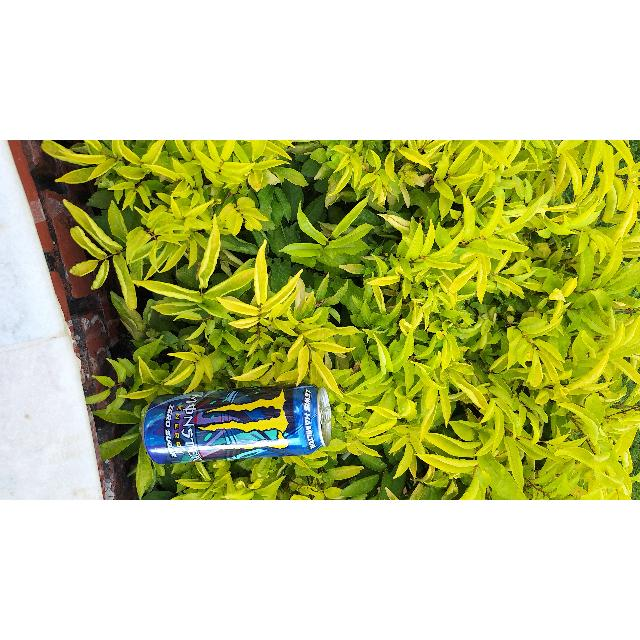Monster LH44: (145, 389, 333, 465)
